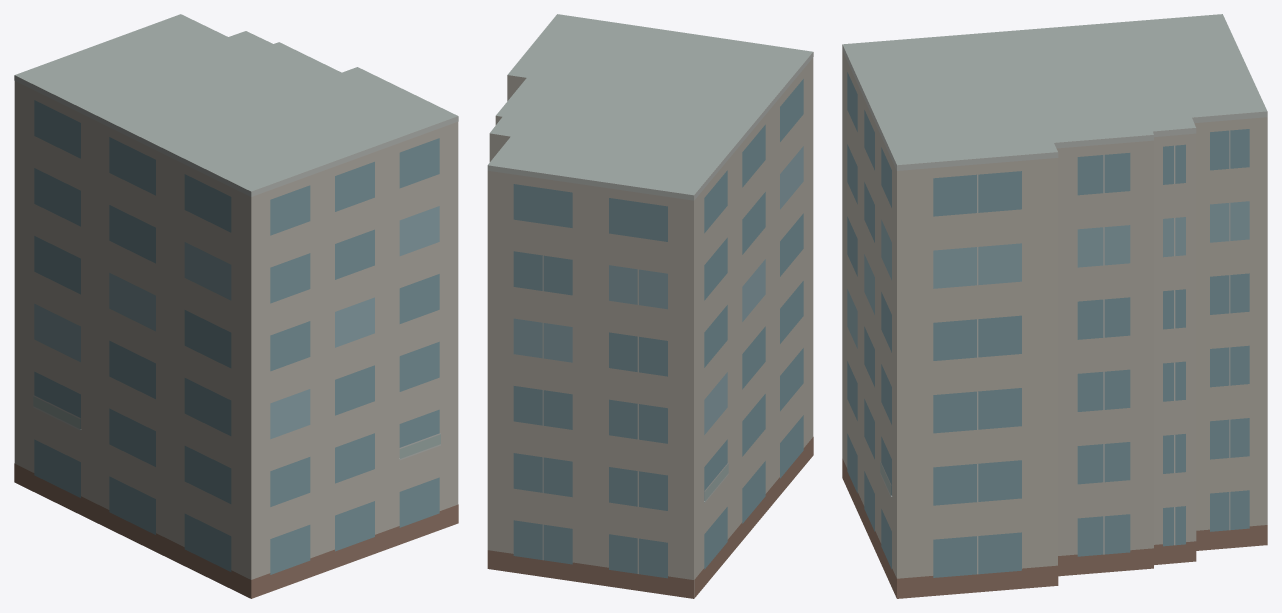
The model's file is survey-upis-32974195.glb.
3 renders of one model, left to right at view 1: azimuth 30°, elevation 25°; view 2: azimuth 150°, elevation 25°; view 3: azimuth 270°, elevation 25°, orthographic. The views are drawn at different scales.
Parts seen in each view (by area): view 1: survey-upis-32974195.tmp; view 2: survey-upis-32974195.tmp; view 3: survey-upis-32974195.tmp.
Part boxes in pixels (left/top/right/bottom): survey-upis-32974195.tmp: left=14, top=14, right=458, bottom=598; survey-upis-32974195.tmp: left=487, top=14, right=813, bottom=598; survey-upis-32974195.tmp: left=842, top=14, right=1267, bottom=598.
Size of the model in its own units: 13.7 by 18.3 by 16.27.
